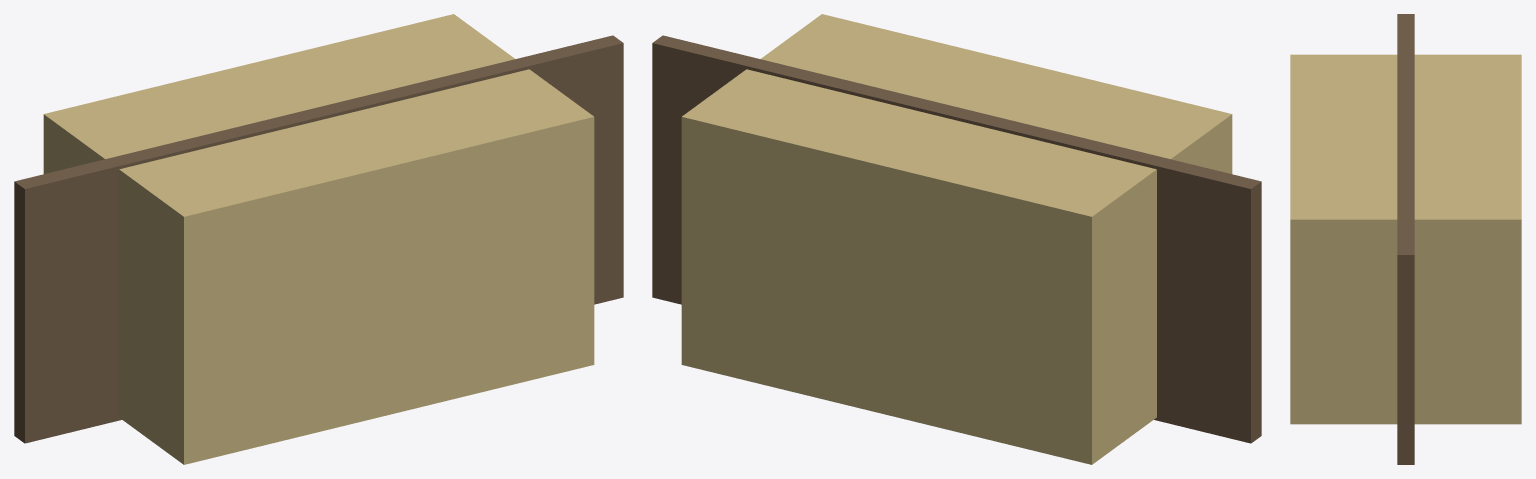
The model's file is hay_bale.glb.
3 views of the same model, side by side, from view 1: azimuth 30°, elevation 25°; view 2: azimuth 150°, elevation 25°; view 3: azimuth 270°, elevation 25° (orthographic). The views are drawn at different scales.
Parts seen in each view (by area): view 1: hay_bale; view 2: hay_bale; view 3: hay_bale.
Part boxes in pixels (box(x1,y1,x2,y2)): hay_bale: box(14, 14, 623, 464); hay_bale: box(652, 14, 1261, 464); hay_bale: box(1290, 14, 1521, 464).
Size of the model in its own units: 1.97 by 0.8 by 0.8.
